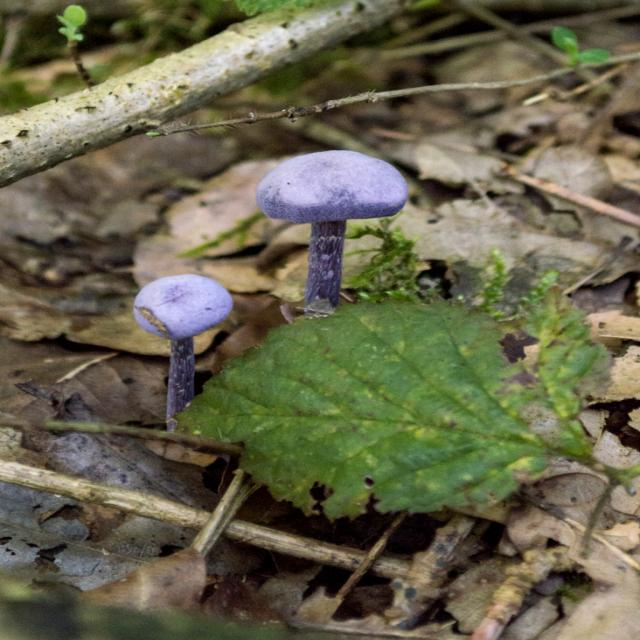Mushroom: (249, 143, 416, 315), (134, 275, 232, 429)
